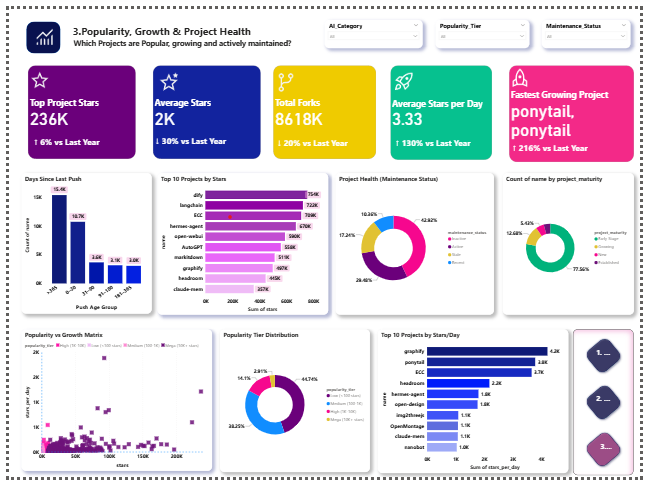

Layout of this report page (visuals, bound fields, positions):
{"tool":"powerbi","page":{"name":"3. Popularity, Growth & Project Health","canvas":[2020,1500],"ordinal":2},"visuals":[{"type":"cardVisual","fields":{"Data":["AI Platforms.Average Stars per Day"]},"box":[1216.7,173.3,336.7,313.3],"z":0},{"type":"clusteredBarChart","title":"Top 10 Projects by Stars","fields":{"Category":["github_ai_intelligence_2026.name"],"Y":["Sum(github_ai_intelligence_2026.stars)"]},"box":[476.7,526.7,546.7,453.3],"z":1000},{"type":"cardVisual","fields":{"Data":["AI Platforms.Top Project Stars"]},"box":[56.7,173.3,356.7,310],"z":2000},{"type":"cardVisual","fields":{"Data":["AI Platforms.Fastest Growing Project"]},"box":[1593.3,173.3,410,320],"z":3000},{"type":"cardVisual","fields":{"Data":["github_ai_intelligence_2026.Total Forks"]},"box":[840,173.3,340,310],"z":4000},{"type":"cardVisual","fields":{"Data":["github_ai_intelligence_2026.Average Stars"]},"box":[456.7,173.3,356.7,310],"z":5000},{"type":"clusteredBarChart","title":"Top 10 Projects by Stars/Day","fields":{"Category":["github_ai_intelligence_2026.name"],"Y":["Sum(github_ai_intelligence_2026.stars_per_day)"]},"box":[1180,1023.3,610,460],"z":6000},{"type":"scatterChart","title":"Popularity vs Growth Matrix","fields":{"X":["github_ai_intelligence_2026.stars"],"Y":["github_ai_intelligence_2026.stars_per_day"],"Series":["github_ai_intelligence_2026.popularity_tier"]},"box":[40,1023.3,610,453.3],"z":7000},{"type":"donutChart","title":"Popularity Tier Distribution","fields":{"Category":["github_ai_intelligence_2026.popularity_tier"],"Y":["CountNonNull(github_ai_intelligence_2026.name)"]},"box":[676.7,1023.3,480,456.7],"z":8000},{"type":"donutChart","title":"Project Health (Maintenance Status)","fields":{"Category":["github_ai_intelligence_2026.maintenance_status"],"Y":["CountNonNull(github_ai_intelligence_2026.name)"]},"box":[1046.7,526.7,506.7,453.3],"z":9000},{"type":"clusteredColumnChart","title":"Days Since Last Push","fields":{"Category":["github_ai_intelligence_2026.Push Age Group"],"Y":["CountNonNull(github_ai_intelligence_2026.name)"]},"box":[40,526.7,416.7,450],"z":10000},{"type":"donutChart","fields":{"Category":["github_ai_intelligence_2026.project_maturity"],"Y":["CountNonNull(github_ai_intelligence_2026.name)"]},"box":[1580,526.7,420,453.3],"z":11000},{"type":"textbox","box":[187.5,42.5,772.5,95],"z":12000},{"type":"pageNavigator","box":[1806.7,1023.3,193.3,466.7],"z":13000},{"type":"slicer","fields":{"Values":["github_ai_intelligence_2026.ai_category"]},"box":[1010,36.7,313.3,90],"z":14000},{"type":"slicer","fields":{"Values":["github_ai_intelligence_2026.popularity_tier"]},"box":[1366.7,36.7,300,90],"z":15000},{"type":"slicer","fields":{"Values":["github_ai_intelligence_2026.maintenance_status"]},"box":[1703.3,36.7,283.3,90],"z":16000},{"type":"shape","box":[55,40,110,102.5],"z":17000},{"type":"image","box":[62.5,50,97.5,77.5],"z":18000},{"type":"image","box":[1223.3,190,76.7,83.3],"z":19000},{"type":"image","box":[1593.3,173.3,80,90],"z":20000},{"type":"card","fields":{"Values":["AI Platforms.Average Stars Growth Label"]},"box":[456.7,390,253.3,66.7],"z":21000},{"type":"card","fields":{"Values":["AI Platforms.Total Forks Growth Label"]},"box":[840,383.3,263.3,86.7],"z":22000},{"type":"card","fields":{"Values":["AI Platforms.Average Stars Per Day Growth Label"]},"box":[1193.3,390,323.3,80],"z":23000},{"type":"card","fields":{"Values":["AI Platforms.Top Project Stars Growth Label"]},"box":[56.7,390,260,73.3],"z":24000},{"type":"card","fields":{"Values":["AI Platforms.Fastest Growing Project Growth Label"]},"box":[1580,406.7,303.3,80],"z":25000},{"type":"image","box":[56.7,190,86.7,76.7],"z":26000},{"type":"image","box":[456.7,193.3,113.3,80],"z":27000},{"type":"image","box":[840,193.3,93.3,80],"z":28000}]}

Visuals, with their boxes in screenshot pixels (x1, y1, x2, y2), scaled from the page's 2020x1500 canvas onto the 650x485 screenshot:
cardVisual - AI Platforms.Average Stars per Day: 392,56,500,157
"Top 10 Projects by Stars" clusteredBarChart: 153,170,329,317
cardVisual - AI Platforms.Top Project Stars: 18,56,133,156
cardVisual - AI Platforms.Fastest Growing Project: 513,56,645,160
cardVisual - github_ai_intelligence_2026.Total Forks: 270,56,380,156
cardVisual - github_ai_intelligence_2026.Average Stars: 147,56,262,156
"Top 10 Projects by Stars/Day" clusteredBarChart: 380,331,576,480
"Popularity vs Growth Matrix" scatterChart: 13,331,209,477
"Popularity Tier Distribution" donutChart: 218,331,372,479
"Project Health (Maintenance Status)" donutChart: 337,170,500,317
"Days Since Last Push" clusteredColumnChart: 13,170,147,316
donutChart - github_ai_intelligence_2026.project_maturity x CountNonNull(github_ai_intelligence_2026.name): 508,170,644,317
textbox: 60,14,309,44
pageNavigator: 581,331,644,482
slicer - github_ai_intelligence_2026.ai_category: 325,12,426,41
slicer - github_ai_intelligence_2026.popularity_tier: 440,12,536,41
slicer - github_ai_intelligence_2026.maintenance_status: 548,12,639,41
shape: 18,13,53,46
image: 20,16,51,41
image: 394,61,418,88
image: 513,56,538,85
card - AI Platforms.Average Stars Growth Label: 147,126,228,148
card - AI Platforms.Total Forks Growth Label: 270,124,355,152
card - AI Platforms.Average Stars Per Day Growth Label: 384,126,488,152
card - AI Platforms.Top Project Stars Growth Label: 18,126,102,150
card - AI Platforms.Fastest Growing Project Growth Label: 508,131,606,157
image: 18,61,46,86
image: 147,63,183,88
image: 270,63,300,88
